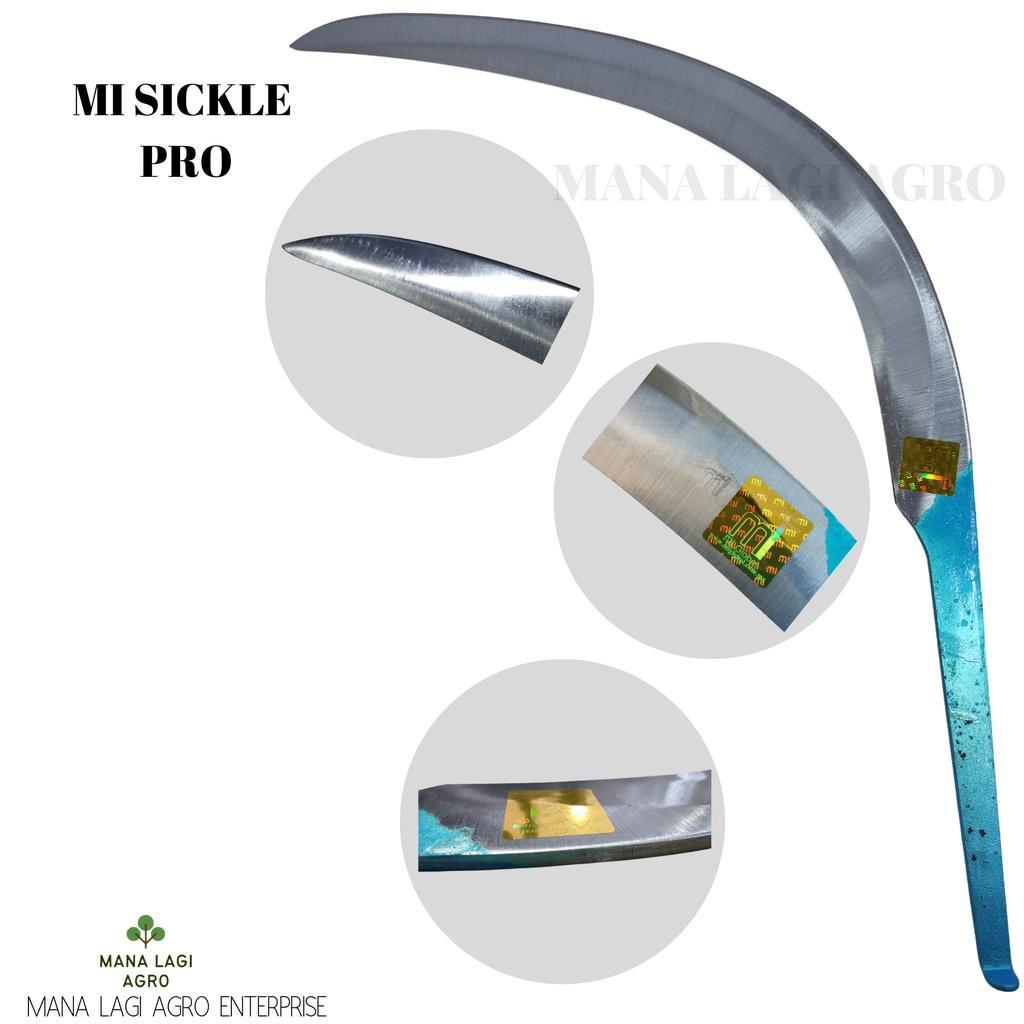faca: (286, 235, 579, 363)
foice: (293, 14, 995, 827)
